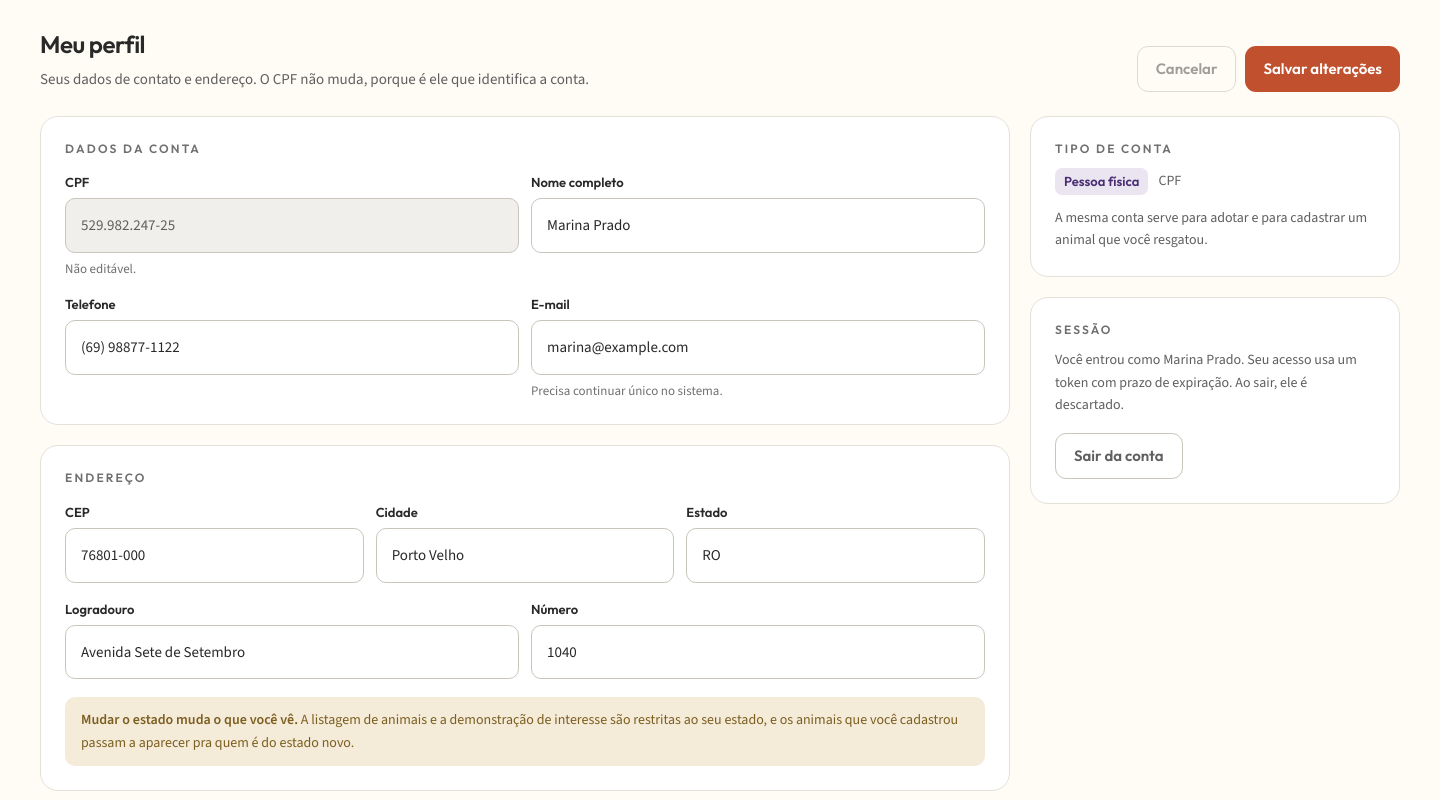
it: salvar os dados › trocar o CEP preenche o endereço e o estado novo vai no PUT
expect the button "Salvar alterações" is shown: met, box [1245, 46, 1400, 92]
Replace the text in the field labelled "CEP" with "01310100" at point(214, 555), box [65, 528, 364, 583]
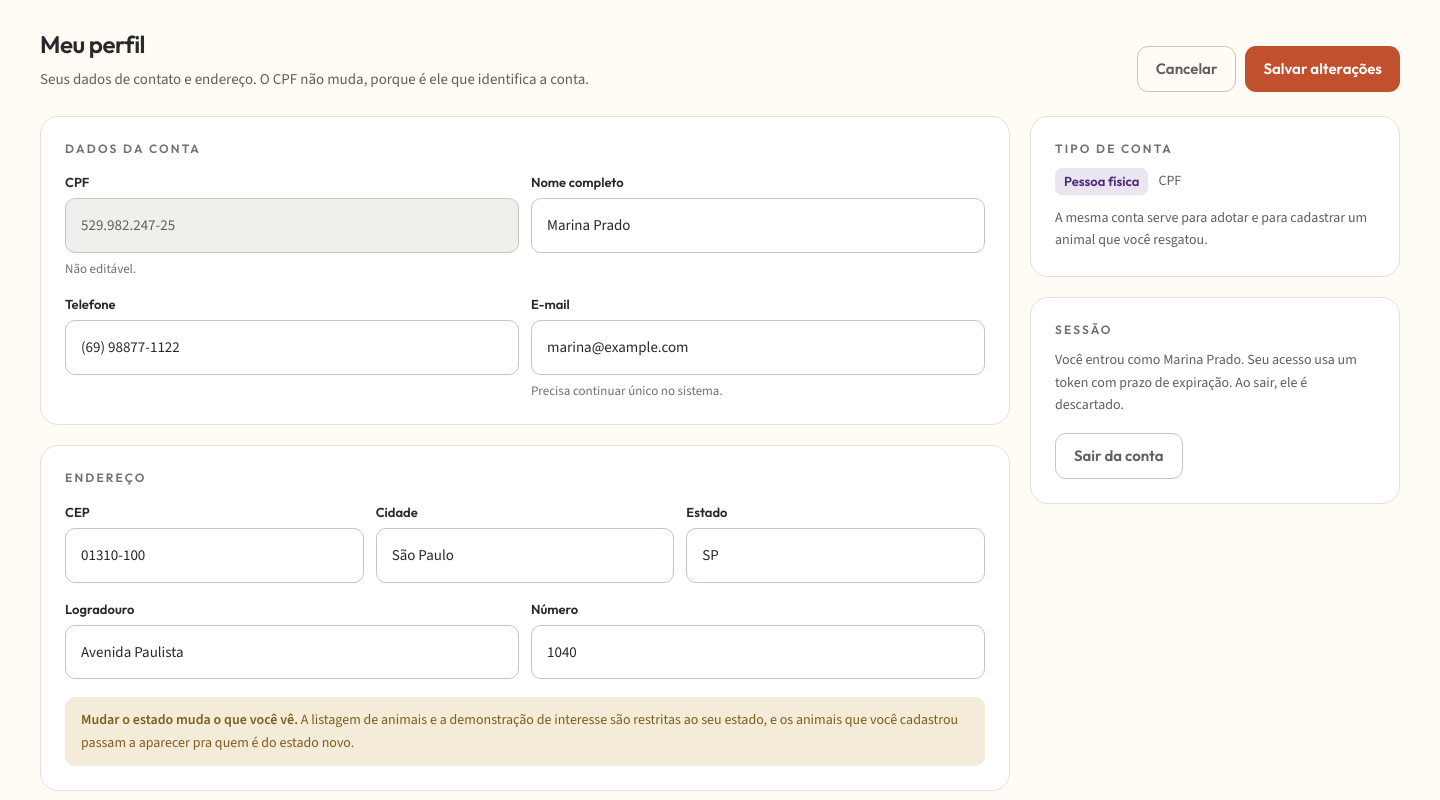
expect the field labelled "Estado" holds "SP": met, box [686, 528, 985, 583]
expect the field labelled "Cidade" holds "São Paulo": met, box [376, 528, 674, 583]
Replace the text in the field labelled "Número" with "1578" at point(758, 652), box [531, 624, 985, 679]
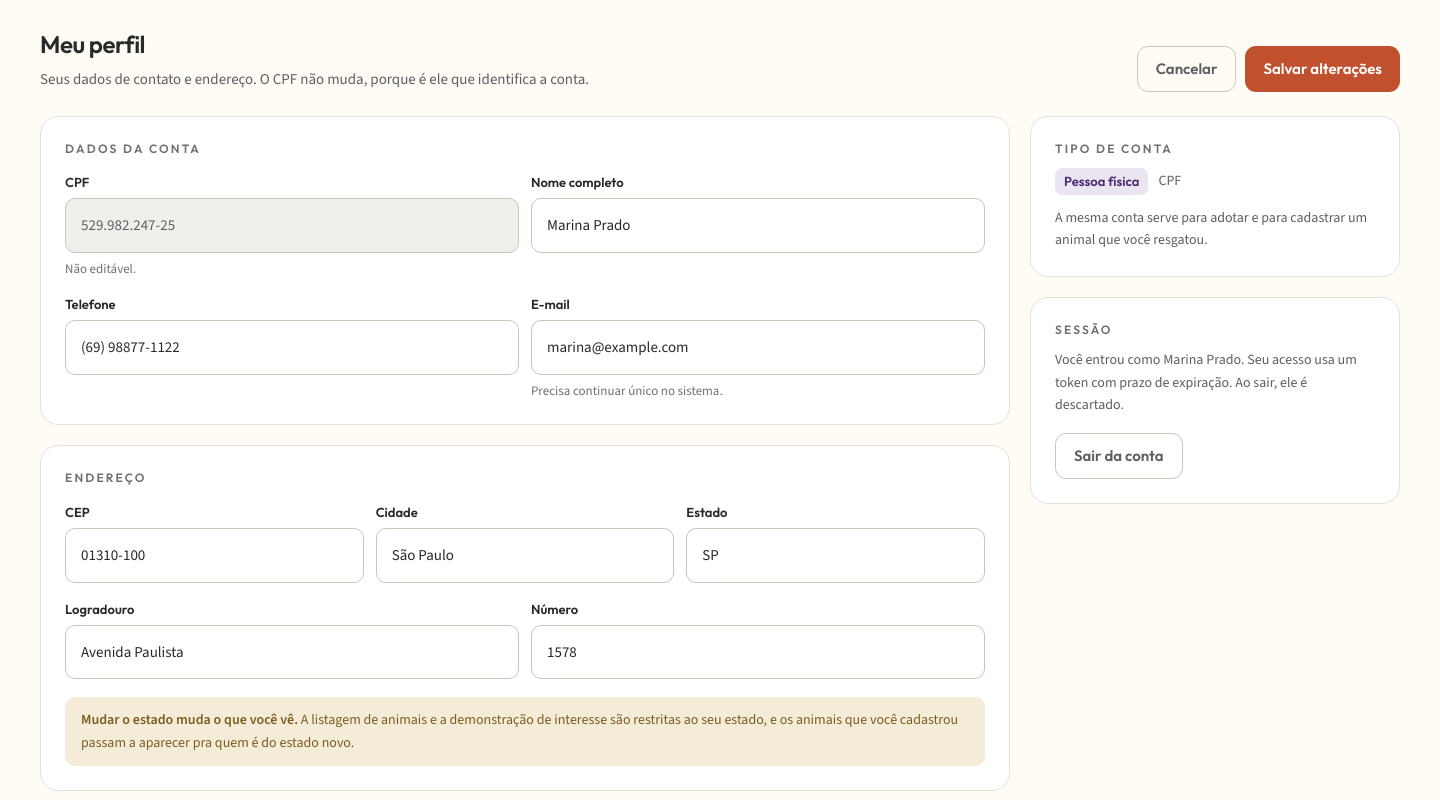
Click the button "Salvar alterações" at point(1323, 68), box [1245, 46, 1400, 92]
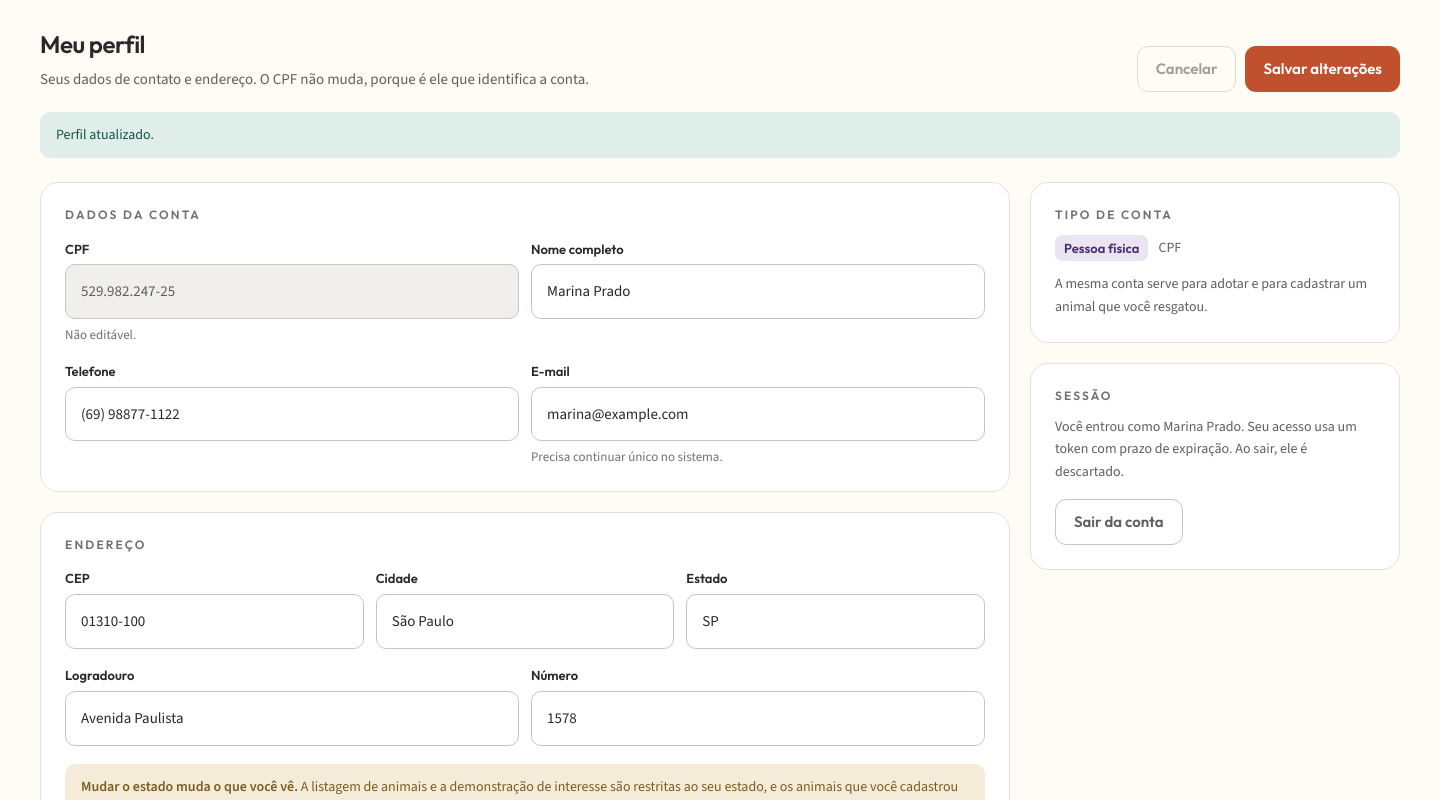
expect the text "Perfil atualizado." is shown: met, box [40, 112, 1400, 158]
